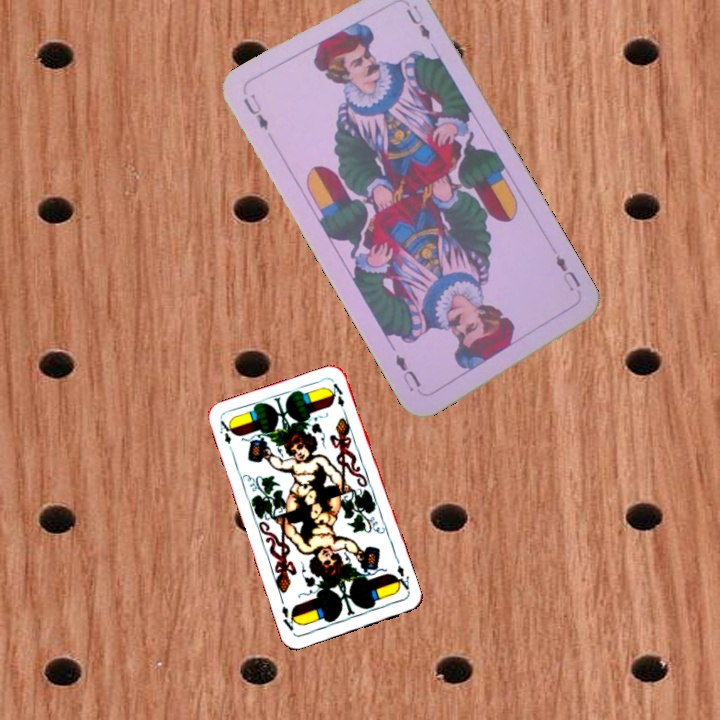EA: (216, 416, 237, 456), (390, 561, 412, 596)
EU: (551, 251, 584, 294), (239, 90, 271, 133)
